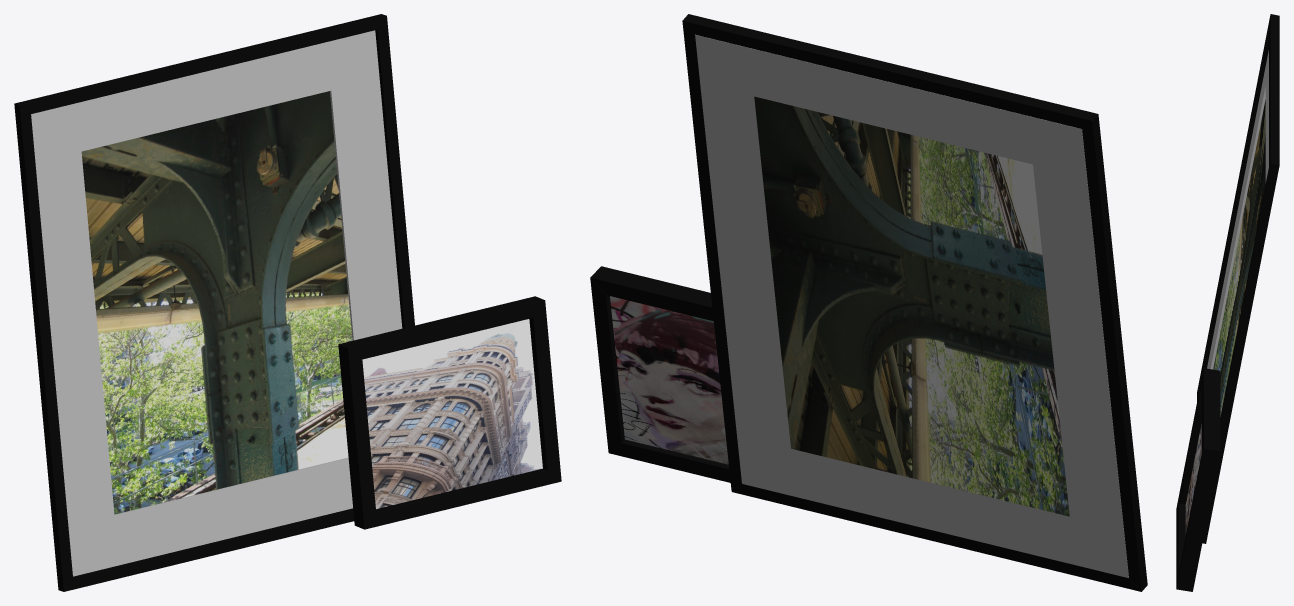
The model's file is cgt_Accessory_81_001.fbx.
3 views of the same model, side by side, from view 1: azimuth 30°, elevation 25°; view 2: azimuth 150°, elevation 25°; view 3: azimuth 270°, elevation 25° (orthographic). The views are drawn at different scales.
Parts seen in each view (by area): view 1: cgt_Accessory_81_001; view 2: cgt_Accessory_81_001; view 3: cgt_Accessory_81_001.
Boxes of the visible parts, <box> form: cgt_Accessory_81_001: <box>14,14,561,591</box>; cgt_Accessory_81_001: <box>590,14,1147,591</box>; cgt_Accessory_81_001: <box>1176,14,1279,591</box>.
Bounding box in the file's own units: 56.43 × 12.47 × 50.7.
5 materials, 3 textured.
